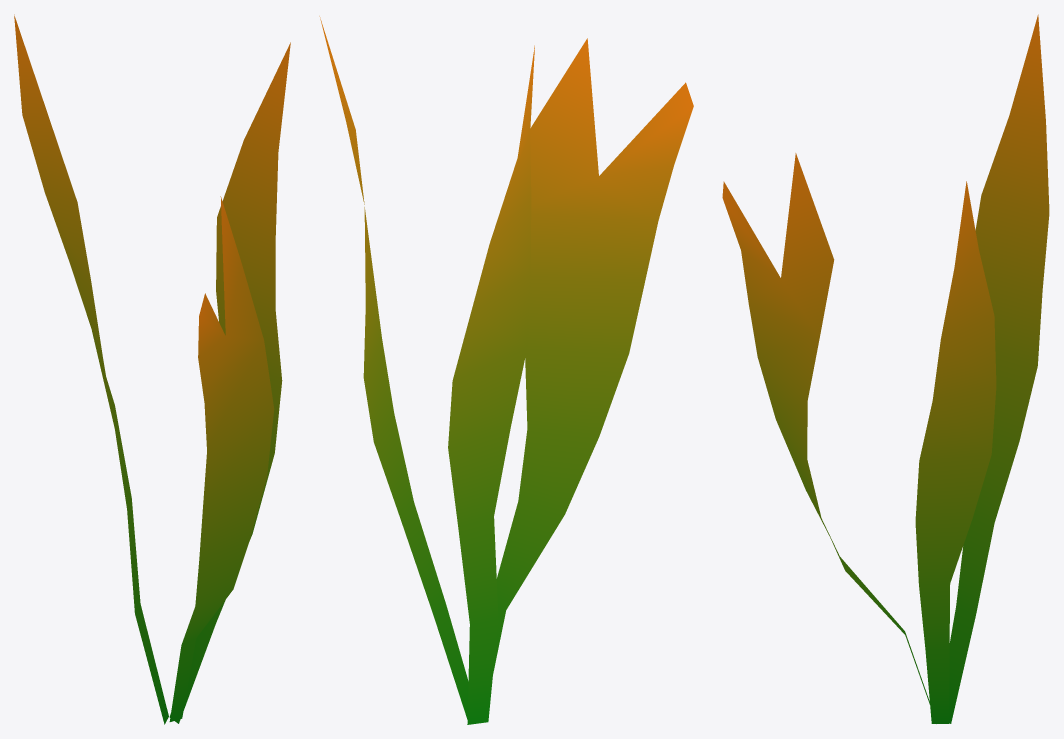
Rendered from Common Eelgrass_LOD1_Var6_sjglk.fbx.
3 renders of one model, left to right at view 1: azimuth 30°, elevation 25°; view 2: azimuth 150°, elevation 25°; view 3: azimuth 270°, elevation 25°, orthographic. The views are drawn at different scales.
Visible parts, largest first — view 1: _a126_Var6_LOD1; view 2: _a126_Var6_LOD1; view 3: _a126_Var6_LOD1.
Part boxes in pixels (x1,y1,x2,y2): _a126_Var6_LOD1: (14, 14, 290, 724); _a126_Var6_LOD1: (319, 16, 693, 724); _a126_Var6_LOD1: (722, 14, 1049, 723).
Bounding box in the file's own units: 31.24 × 86.84 × 39.01.
